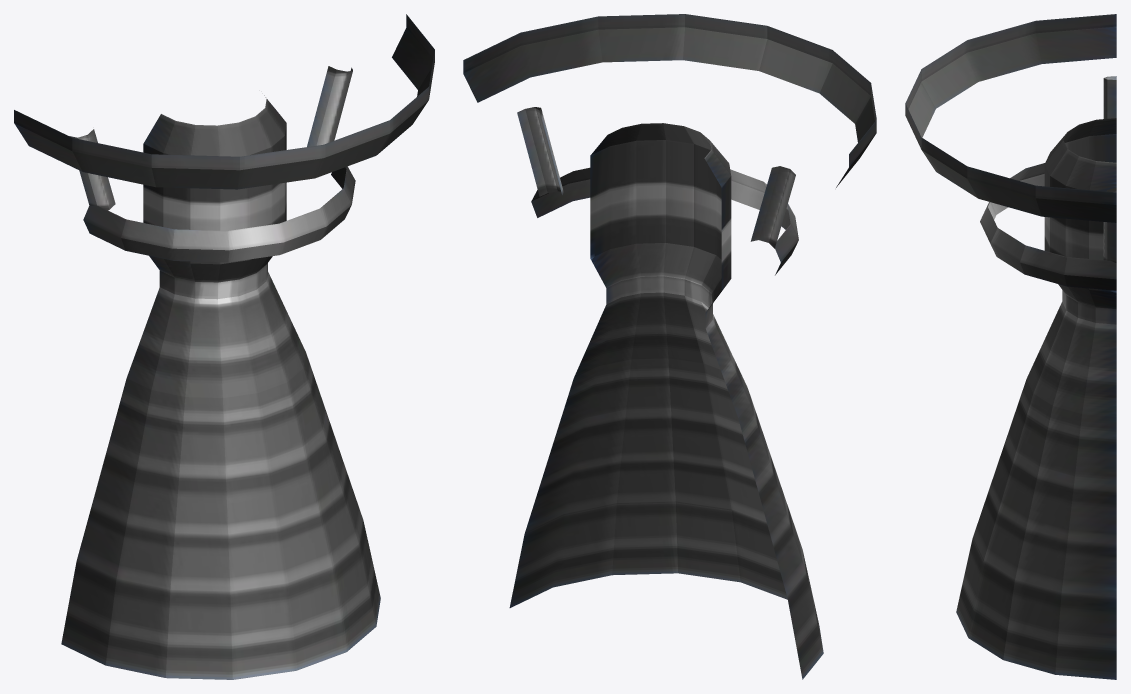
Rendered from EngineValiant.gltf.
3 renders of one model, left to right at view 1: azimuth 30°, elevation 25°; view 2: azimuth 150°, elevation 25°; view 3: azimuth 270°, elevation 25°, orthographic. The views are drawn at different scales.
Visible parts, largest first — view 1: model; view 2: model; view 3: model.
Part boxes in pixels (x1=…): model: x1=14, y1=14, x2=434, y2=679; model: x1=463, y1=14, x2=876, y2=679; model: x1=905, y1=14, x2=1116, y2=679.
Bounding box in the file's own units: 1.5 × 2 × 0.75.
Materials: 1 (1 with a texture image).
